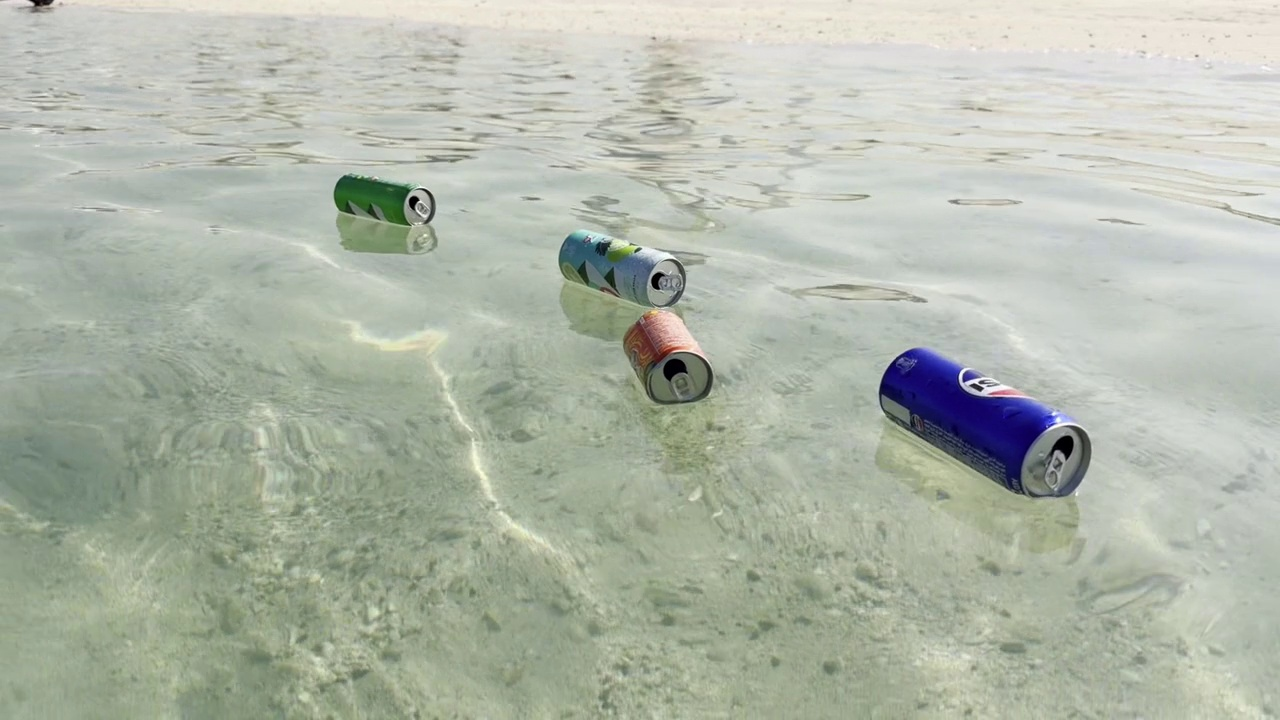debris: (868, 334, 1106, 511), (547, 221, 692, 315), (612, 302, 726, 411), (323, 171, 441, 238)
